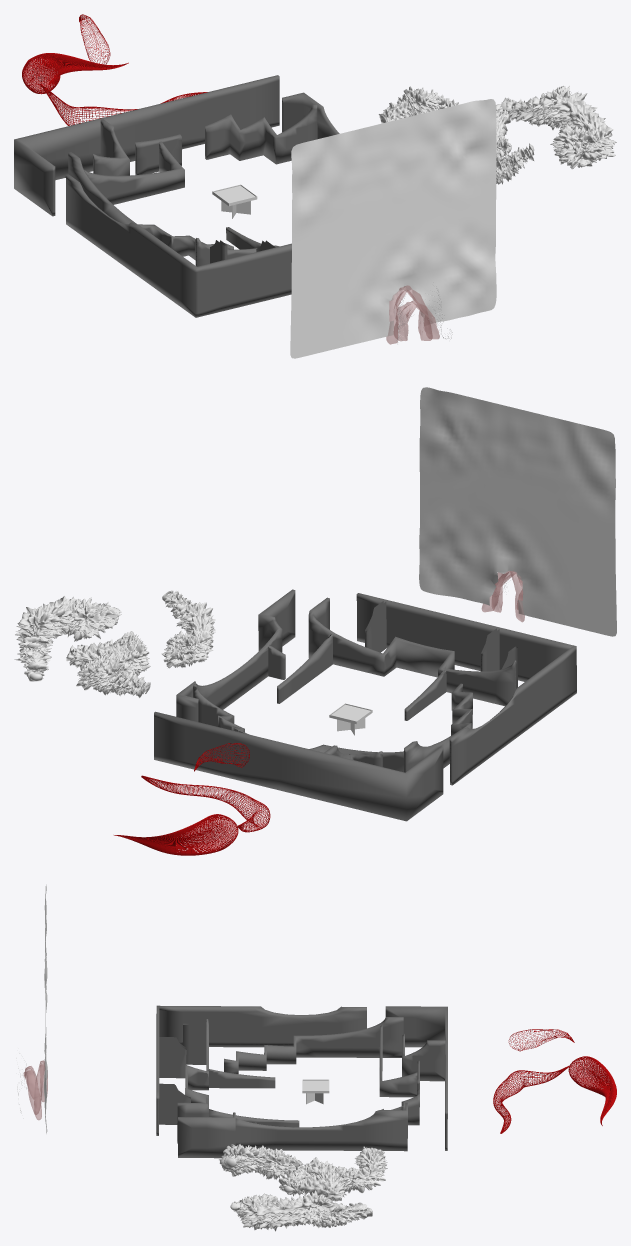
File: full-maze.glb
The picture shows the model from 3 angles, top to bottom: view 1: azimuth 30°, elevation 25°; view 2: azimuth 150°, elevation 25°; view 3: azimuth 270°, elevation 25°; orthographic projection. The views are drawn at different scales.
Parts seen in each view (by area): view 1: room, maze, Cube.010, Cube.009, Cube.002, archway, red tendril wireframe.002, archway.001, Cube.007, Cube; view 2: maze, room, Cube.010, Cube.009, Cube.007, Cube.002, red tendril wireframe.002, archway, Cube; view 3: maze, Cube.010, Cube.009, Cube.007, Cube.002, red tendril wireframe.002, Cube, room, archway.001.
Part boxes in pixels (x1=…): room: x1=290, y1=99, x2=496, y2=358; maze: x1=14, y1=75, x2=339, y2=317; Cube.010: x1=496, y1=86, x2=616, y2=169; Cube.009: x1=378, y1=86, x2=511, y2=156; Cube.002: x1=22, y1=53, x2=128, y2=94; archway: x1=386, y1=285, x2=432, y2=344; red tendril wireframe.002: x1=39, y1=83, x2=207, y2=125; archway.001: x1=393, y1=300, x2=439, y2=341; Cube.007: x1=496, y1=143, x2=534, y2=184; Cube: x1=79, y1=14, x2=110, y2=67; maze: x1=154, y1=589, x2=576, y2=821; room: x1=419, y1=387, x2=616, y2=636; Cube.010: x1=14, y1=596, x2=121, y2=681; Cube.009: x1=66, y1=631, x2=150, y2=697; Cube.007: x1=162, y1=590, x2=215, y2=668; Cube.002: x1=114, y1=814, x2=238, y2=855; red tendril wireframe.002: x1=141, y1=775, x2=270, y2=832; archway: x1=492, y1=570, x2=524, y2=622; Cube: x1=194, y1=743, x2=249, y2=771; maze: x1=156, y1=1005, x2=447, y2=1158; Cube.010: x1=230, y1=1190, x2=372, y2=1231; Cube.009: x1=278, y1=1146, x2=387, y2=1202; Cube.007: x1=219, y1=1144, x2=303, y2=1179; Cube.002: x1=568, y1=1056, x2=616, y2=1125; red tendril wireframe.002: x1=493, y1=1065, x2=569, y2=1133; Cube: x1=508, y1=1029, x2=574, y2=1051; room: x1=44, y1=884, x2=47, y2=1133; archway.001: x1=23, y1=1066, x2=41, y2=1120.
Size of the model in its own units: 47.8 by 21.05 by 63.08.
